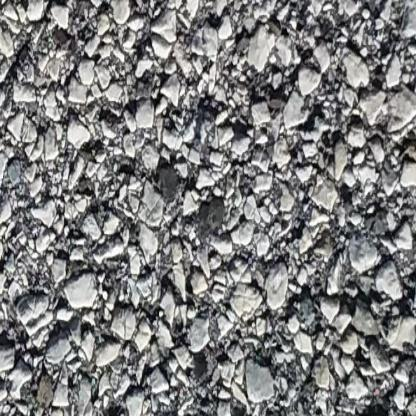Cracks: (0, 0, 116, 129), (142, 0, 160, 12)
